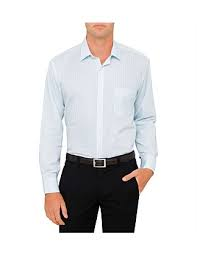F_belt: (64, 150, 137, 171)
F_dress pants: (54, 154, 141, 232)
F_shirt: (32, 43, 171, 195)
